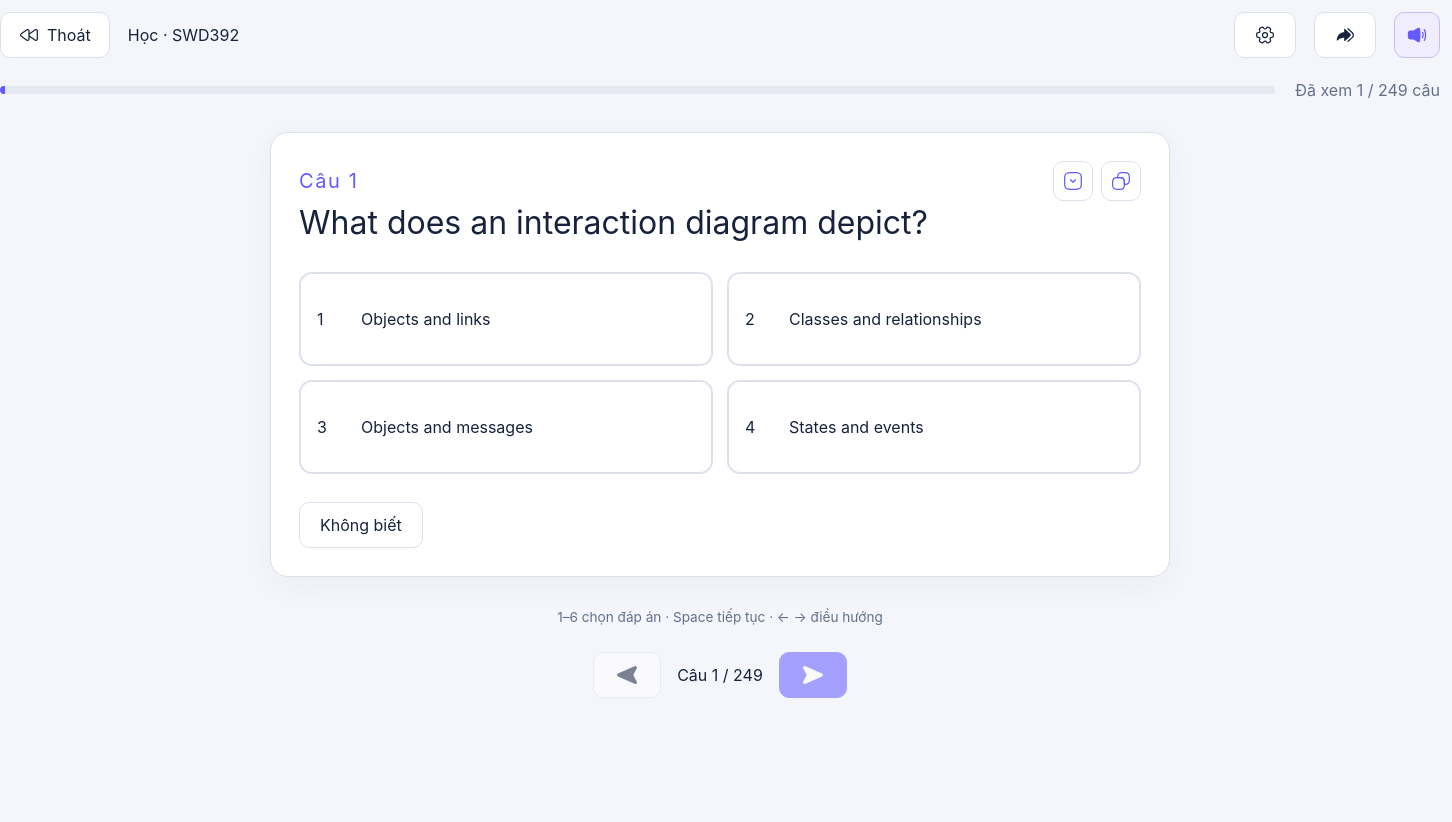
StudyShell interactions and sound › renders dynamic options and click sends the correct option
The width and height of the screenshot is (1452, 822).
Expected: the text "Câu 1" is shown, [299,166,358,196]
Click the button "3 Objects and messages" at (506, 427), box [299,380,713,474]
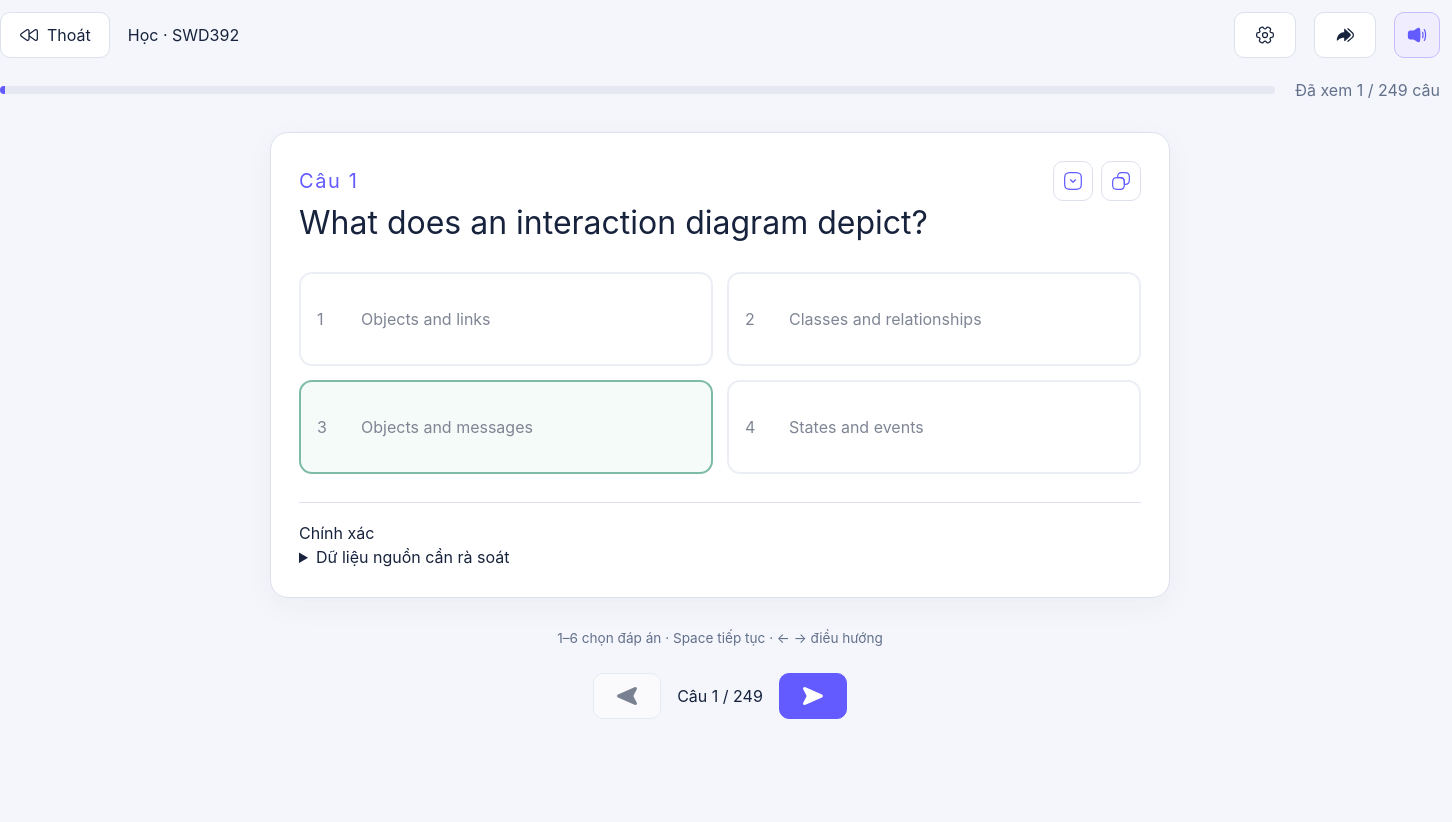
Result: the heading "Chính xác" is shown at [299,523,374,543]
